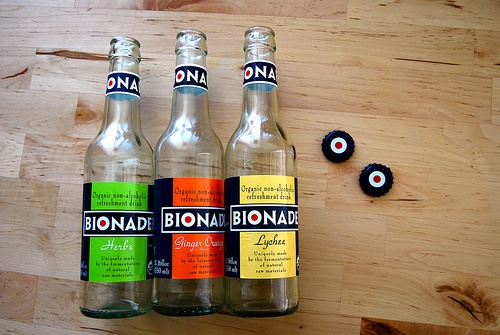emptybottle: (224, 26, 301, 317), (151, 30, 227, 317), (82, 36, 151, 318)
